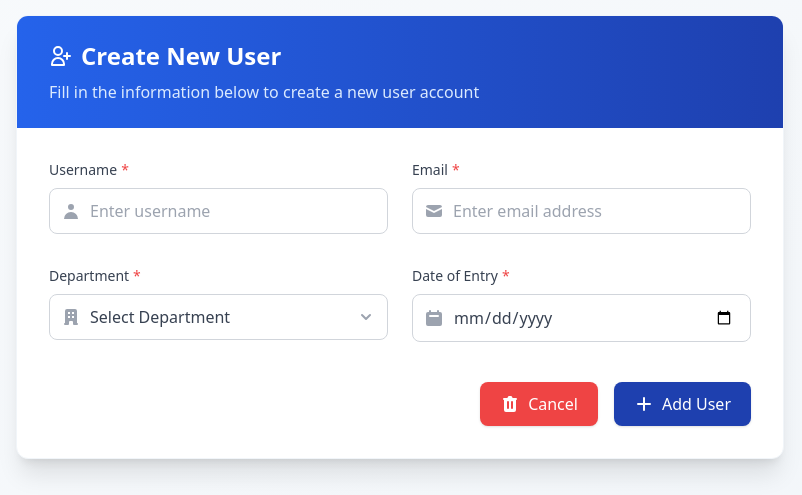
Test: UserCreate Component › shows confirmation dialog when cancel is clicked with filled form and user confirms
The image size is (802, 495).
Fill in form with data
Type "testuser" into the field labelled "Username*" at x=218, y=211, box [49, 188, 388, 234]
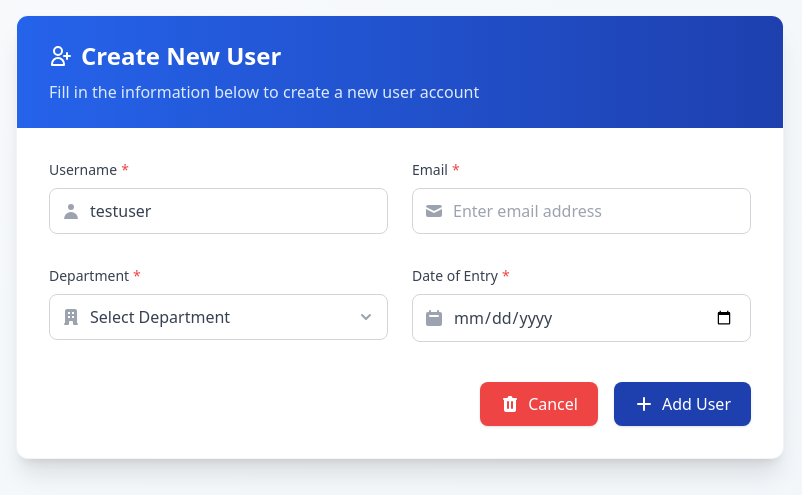
Click the button "Cancel" at x=539, y=404, box [480, 382, 598, 426]
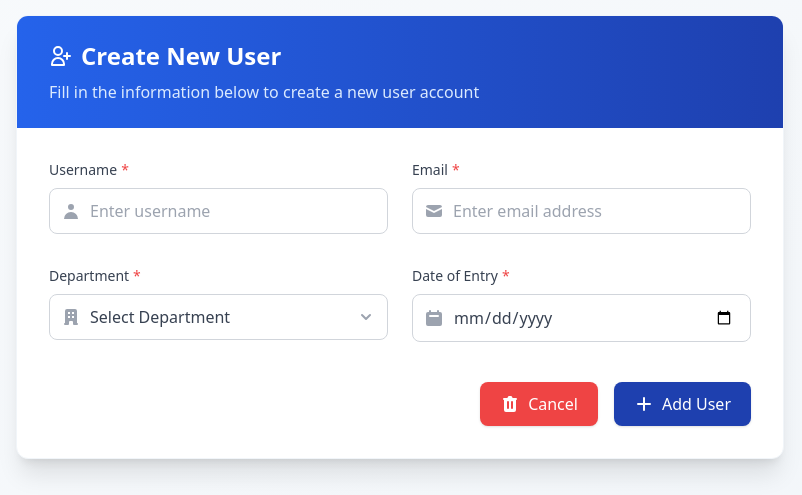
Check: the field labelled "Username*" is empty, box [49, 188, 388, 234]
